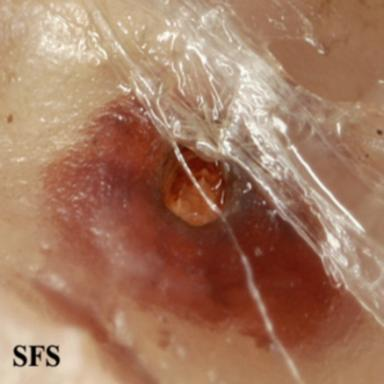Tungiasis: (28, 95, 370, 384)
